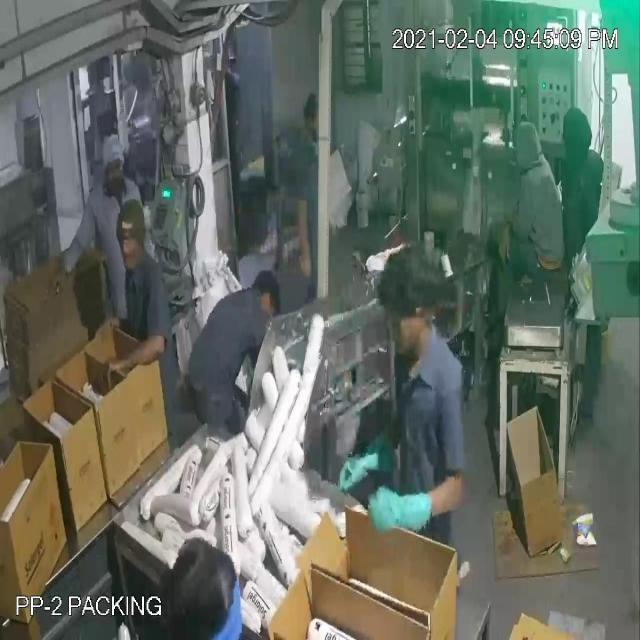Gloves: (30, 52, 503, 502)
